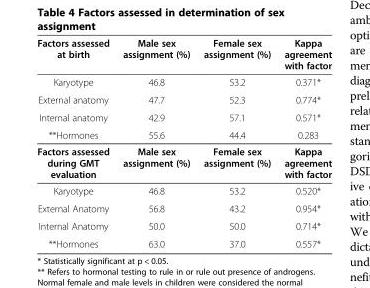table: (36, 36, 331, 249)
table column: (115, 36, 196, 249), (196, 36, 276, 249), (36, 36, 115, 249), (276, 36, 331, 249)
table column header: (36, 36, 331, 73)
table row: (36, 142, 331, 182), (36, 36, 331, 73), (36, 90, 331, 108), (36, 216, 331, 234), (36, 73, 331, 90), (36, 108, 331, 125), (36, 125, 331, 142), (36, 182, 331, 199), (36, 199, 331, 216), (36, 234, 331, 249)
